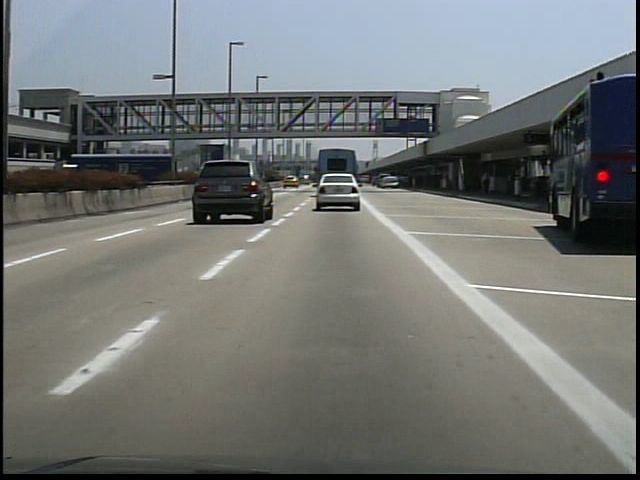person: (477, 165, 498, 202)
